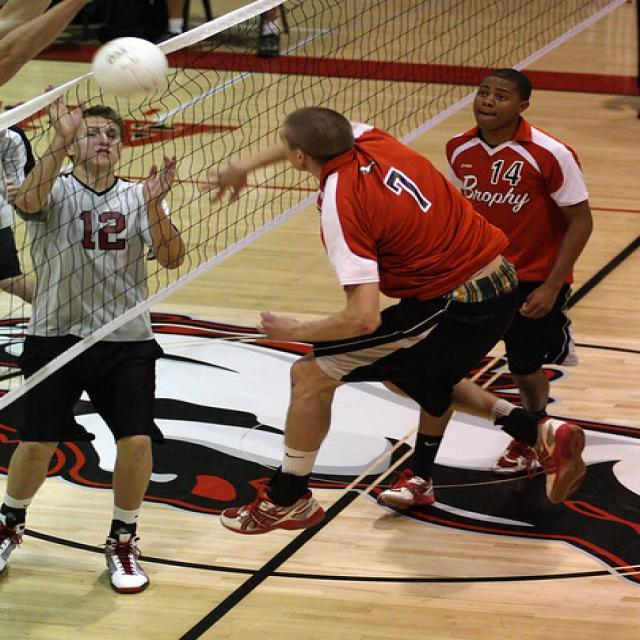volleyball: (91, 36, 168, 96)
